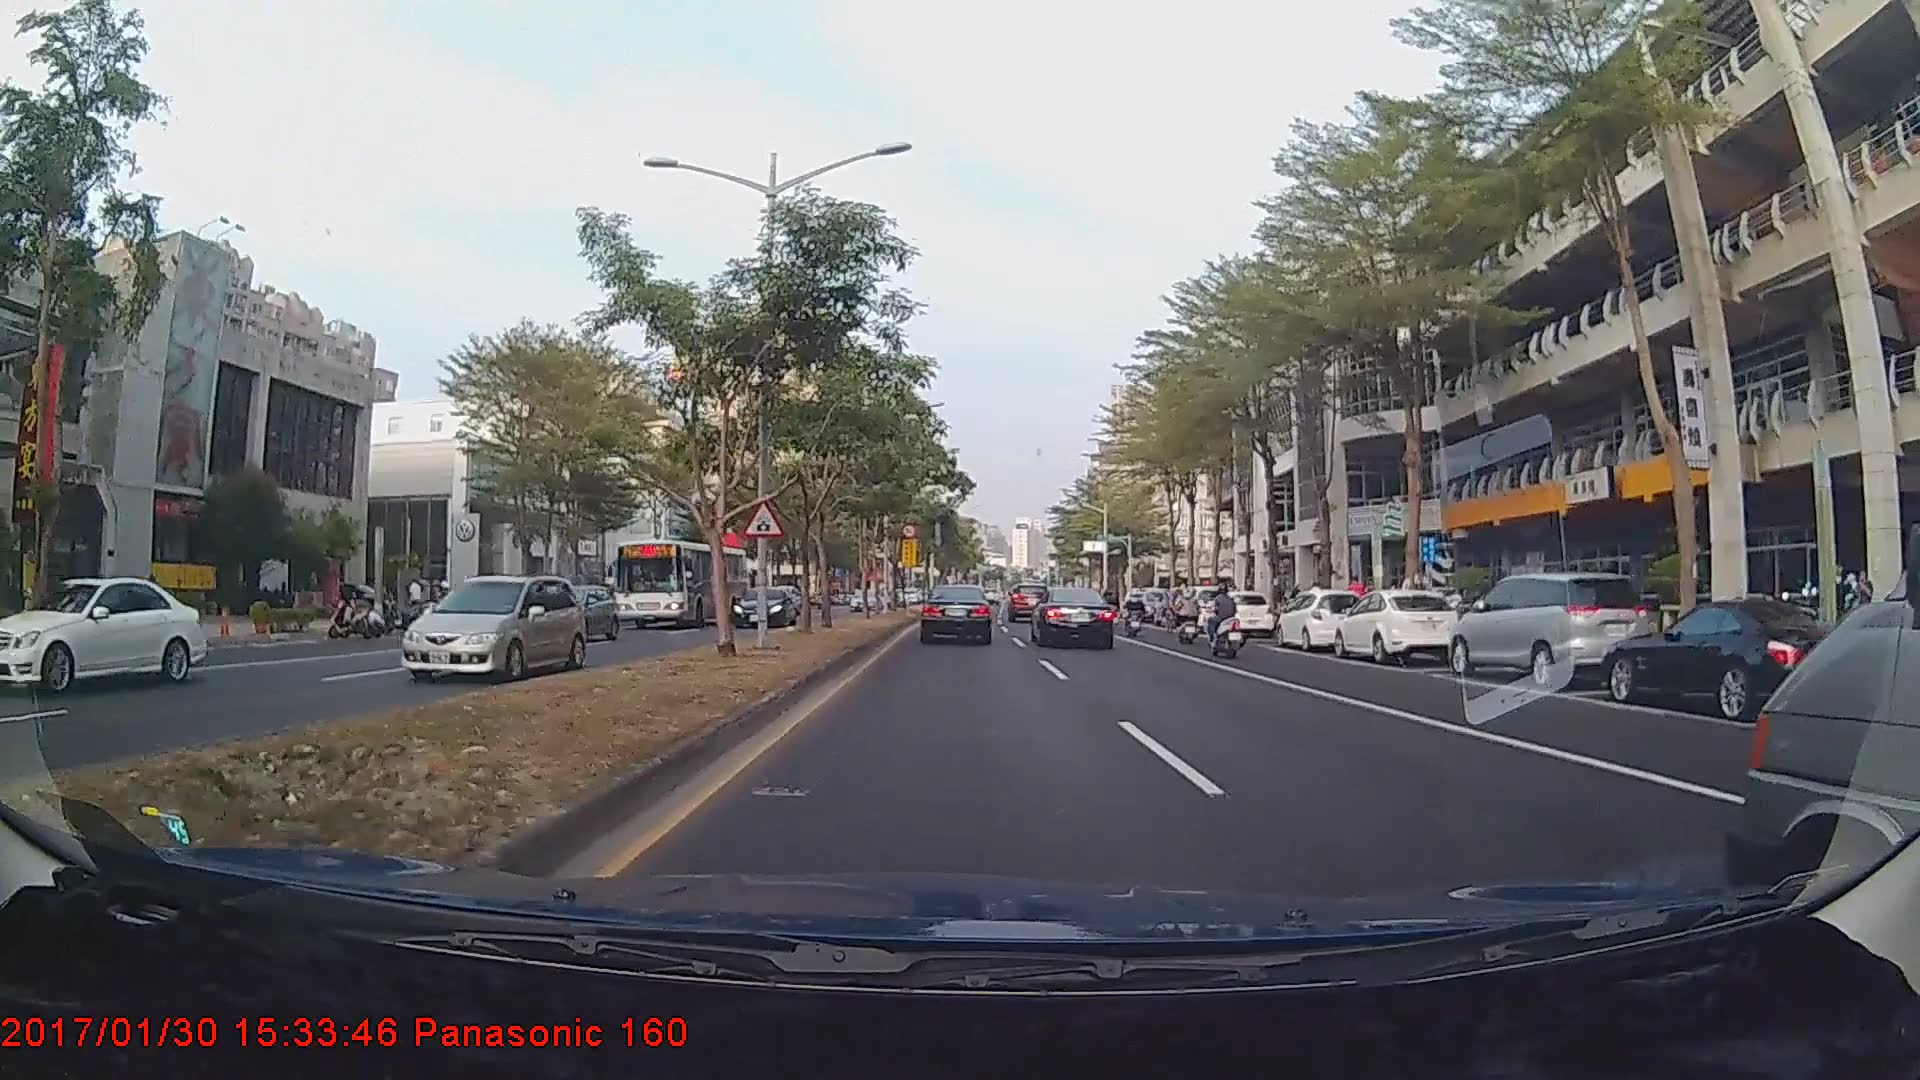rider: (1204, 582, 1253, 660), (1164, 590, 1211, 646), (1121, 586, 1148, 638)
vehicle: (1746, 593, 1917, 856), (1598, 600, 1866, 722), (1446, 569, 1652, 690), (0, 575, 204, 694), (394, 571, 585, 683), (614, 537, 752, 628), (1331, 589, 1460, 664), (1271, 588, 1369, 653), (1034, 586, 1115, 650), (530, 583, 617, 641), (918, 583, 994, 646), (1203, 590, 1274, 637), (730, 585, 797, 627), (1006, 586, 1047, 625)
